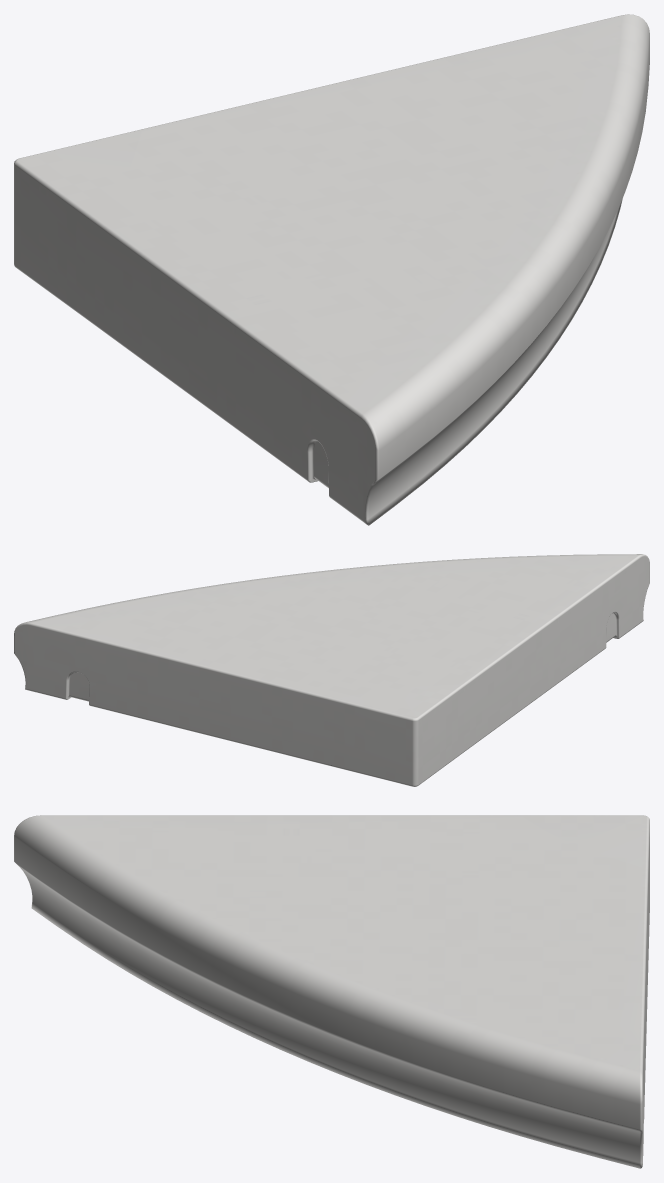
File: B088HCKN9Y.glb
The picture shows the model from 3 angles, top to bottom: view 1: azimuth 30°, elevation 25°; view 2: azimuth 150°, elevation 25°; view 3: azimuth 270°, elevation 25°; orthographic projection. The views are drawn at different scales.
Parts seen in each view (by area): view 1: RootNode; view 2: RootNode; view 3: RootNode.
Part boxes in pixels (<box>): RootNode: <box>14,14,649,525</box>; RootNode: <box>14,554,649,786</box>; RootNode: <box>14,815,649,1168</box>.
Size of the model in its own units: 0.31 by 0.05 by 0.31.
Materials: 1 (1 with a texture image).
